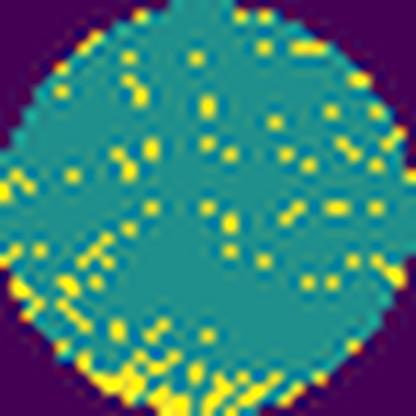Edge-Loc: (65, 346, 278, 416)
